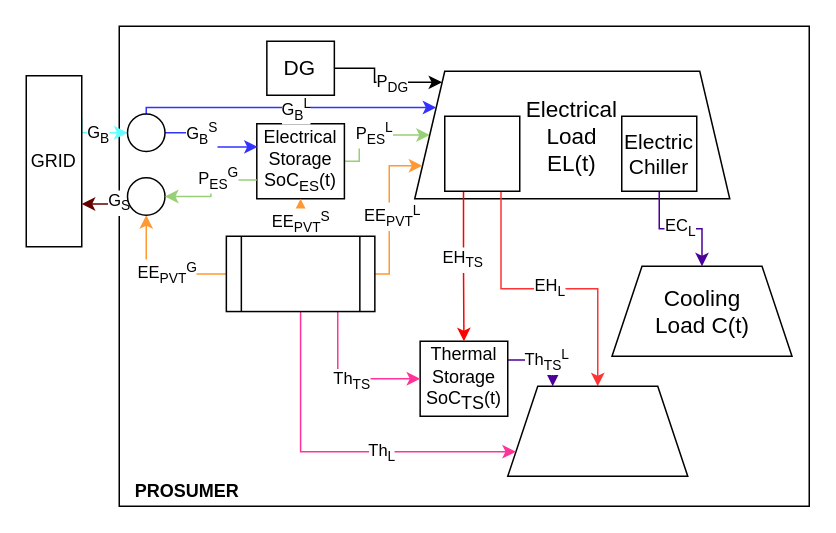
Some shapes in this 836 by 533 pixel diagram are drawn without their labels. The shapes that lost their labels are listed below. From the top down, each one's centre as x and y in pixels, then its label:
[481,153]: Electric Heater
[300,273]: PVT
[597,430]: Heating Load H(t)
